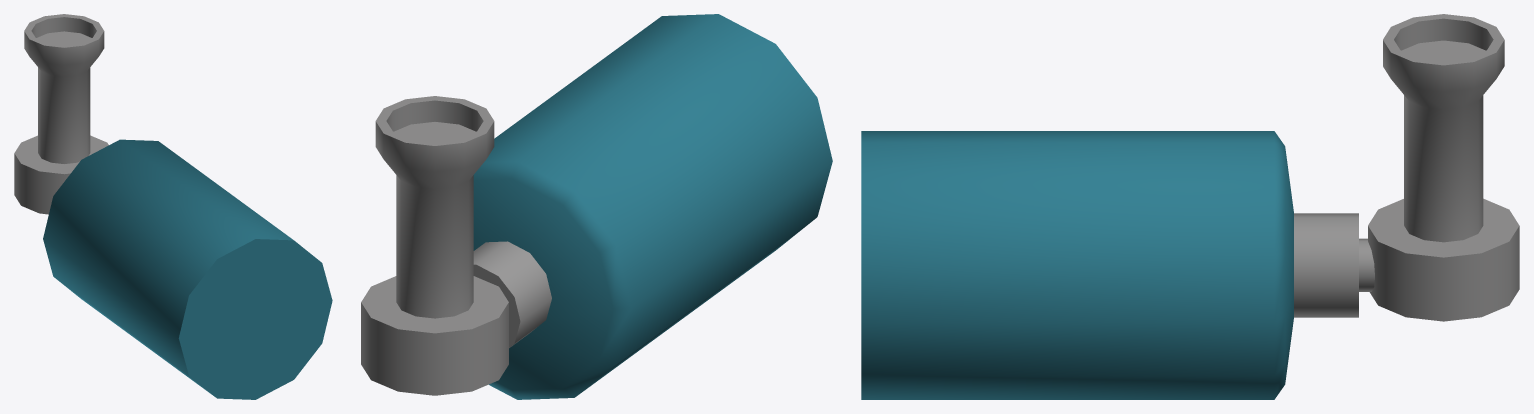
3 renders of one model, left to right at view 1: azimuth 30°, elevation 25°; view 2: azimuth 150°, elevation 25°; view 3: azimuth 270°, elevation 25°, orthographic. The views are drawn at different scales.
Visible parts, largest first — view 1: Circle.001; view 2: Circle.001; view 3: Circle.001.
Part boxes in pixels (left/top/right/bottom): Circle.001: left=14, top=14, right=332, bottom=399; Circle.001: left=361, top=14, right=832, bottom=399; Circle.001: left=861, top=14, right=1519, bottom=399.
Bounding box in the file's own units: 17.56 × 24.96 × 42.76.
